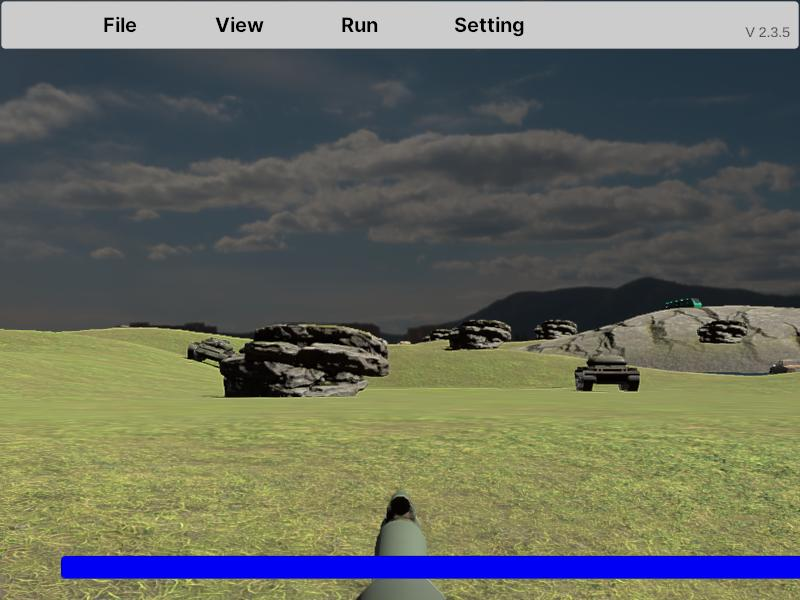Tank: (574, 353, 640, 392)
